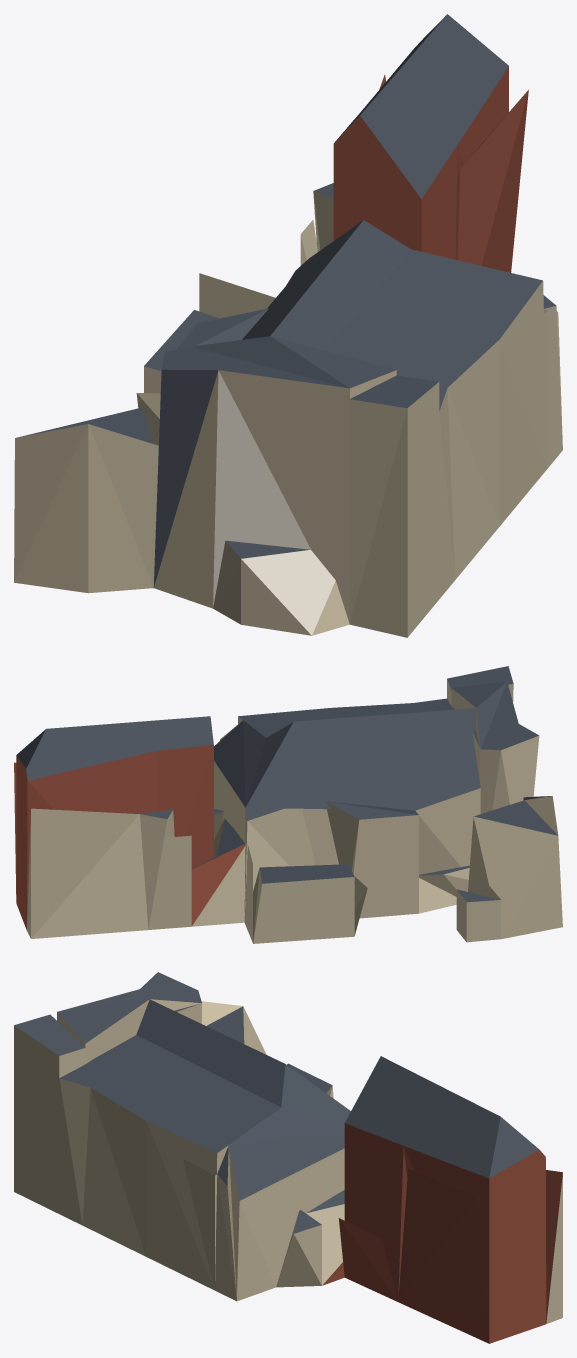
The model's file is singelkerk.lod2.glb.
3 renders of one model, top to bottom at view 1: azimuth 30°, elevation 25°; view 2: azimuth 150°, elevation 25°; view 3: azimuth 270°, elevation 25°, orthographic. The views are drawn at different scales.
Parts seen in each view (by area): view 1: lod2; view 2: lod2; view 3: lod2.
Boxes of the visible parts, box(x1,y1,x2,y2) form: lod2: box(14, 14, 562, 637); lod2: box(14, 666, 562, 943); lod2: box(14, 972, 562, 1343).
Size of the model in its own units: 49.82 by 20.14 by 48.03.
